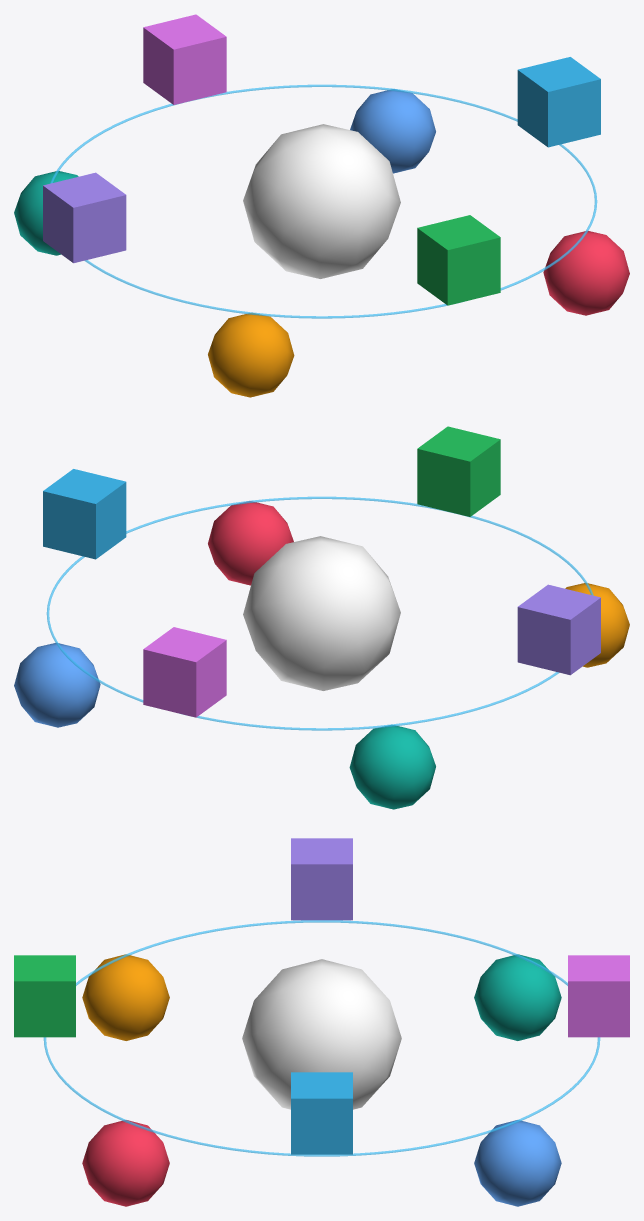
Rendered from skills-scene.glb.
3 renders of one model, top to bottom at view 1: azimuth 30°, elevation 25°; view 2: azimuth 150°, elevation 25°; view 3: azimuth 270°, elevation 25°, orthographic.
Visible parts, largest first — view 1: UI Developer Hub, Figma Skill Node, HTML Skill Node, JS Skill Node, Next Skill Node, CSS Skill Node, React Skill Node, UI Skill Node, Skill Orbit Ring, Tailwind Skill Node; view 2: UI Developer Hub, JS Skill Node, HTML Skill Node, Figma Skill Node, Next Skill Node, UI Skill Node, Tailwind Skill Node, CSS Skill Node, Skill Orbit Ring, React Skill Node; view 3: UI Developer Hub, CSS Skill Node, UI Skill Node, React Skill Node, Tailwind Skill Node, HTML Skill Node, JS Skill Node, Next Skill Node, Figma Skill Node, Skill Orbit Ring.
Part boxes in pixels (x1=…): UI Developer Hub: x1=243, y1=124, x2=400, y2=278; Figma Skill Node: x1=143, y1=14, x2=226, y2=104; HTML Skill Node: x1=517, y1=57, x2=600, y2=147; JS Skill Node: x1=417, y1=215, x2=500, y2=305; Next Skill Node: x1=43, y1=172, x2=126, y2=263; CSS Skill Node: x1=543, y1=231, x2=629, y2=315; React Skill Node: x1=208, y1=313, x2=294, y2=397; UI Skill Node: x1=350, y1=89, x2=435, y2=173; Skill Orbit Ring: x1=50, y1=84, x2=597, y2=318; Tailwind Skill Node: x1=14, y1=171, x2=78, y2=255; UI Developer Hub: x1=243, y1=536, x2=400, y2=690; JS Skill Node: x1=417, y1=426, x2=500, y2=516; HTML Skill Node: x1=43, y1=469, x2=126, y2=559; Figma Skill Node: x1=143, y1=627, x2=226, y2=717; Next Skill Node: x1=517, y1=584, x2=600, y2=675; UI Skill Node: x1=14, y1=643, x2=100, y2=727; Tailwind Skill Node: x1=349, y1=725, x2=435, y2=809; CSS Skill Node: x1=208, y1=501, x2=293, y2=585; Skill Orbit Ring: x1=46, y1=496, x2=593, y2=730; React Skill Node: x1=565, y1=583, x2=629, y2=667; UI Developer Hub: x1=242, y1=959, x2=401, y2=1109; CSS Skill Node: x1=82, y1=1120, x2=169, y2=1206; UI Skill Node: x1=474, y1=1120, x2=561, y2=1206; React Skill Node: x1=82, y1=954, x2=169, y2=1040; Tailwind Skill Node: x1=474, y1=954, x2=561, y2=1040; HTML Skill Node: x1=291, y1=1072, x2=352, y2=1154; JS Skill Node: x1=14, y1=955, x2=75, y2=1037; Next Skill Node: x1=291, y1=838, x2=352, y2=920; Figma Skill Node: x1=568, y1=955, x2=629, y2=1037; Skill Orbit Ring: x1=43, y1=920, x2=600, y2=1156.
Size of the model in its own units: 4.78 by 1.32 by 4.78.
